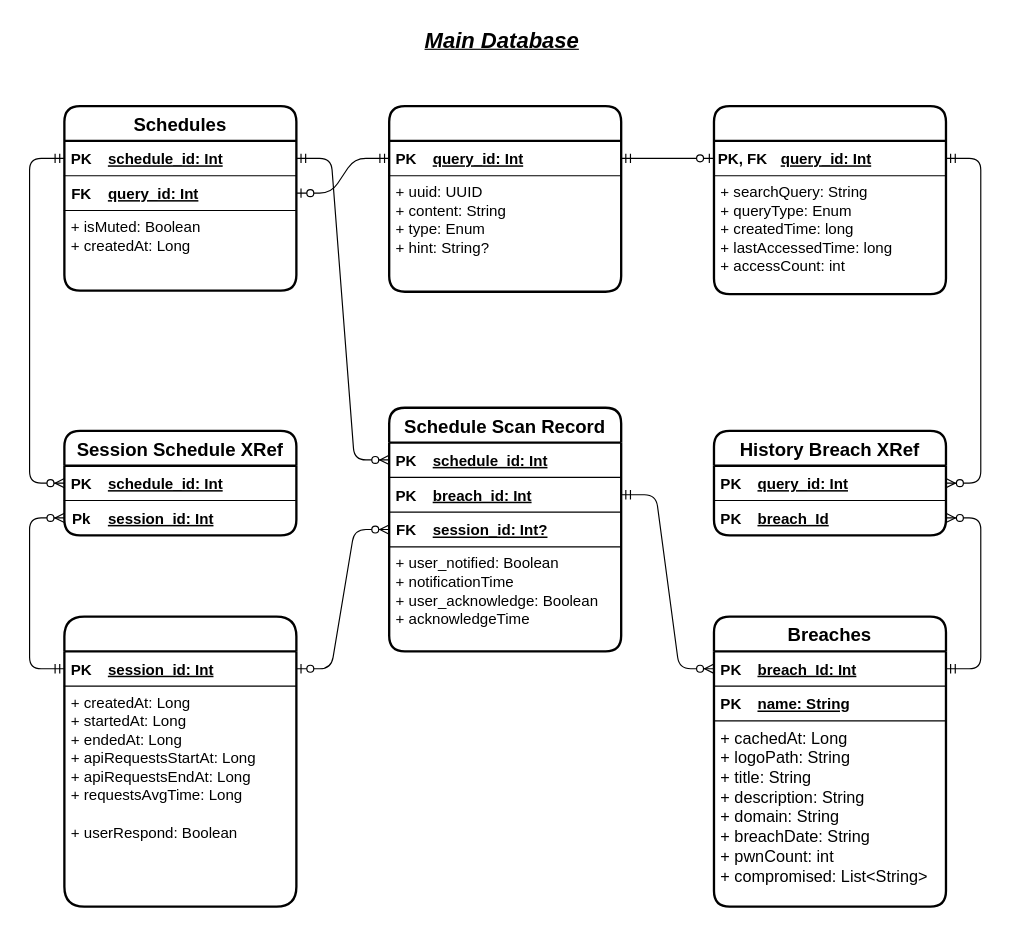
Image size: 1012x927. Some labels were removed from this diagram. Each missing label, with the box of its shape:
Queries: (387, 104, 622, 292)
Scan Sessions: (63, 615, 297, 907)
Search History: (712, 104, 947, 295)
